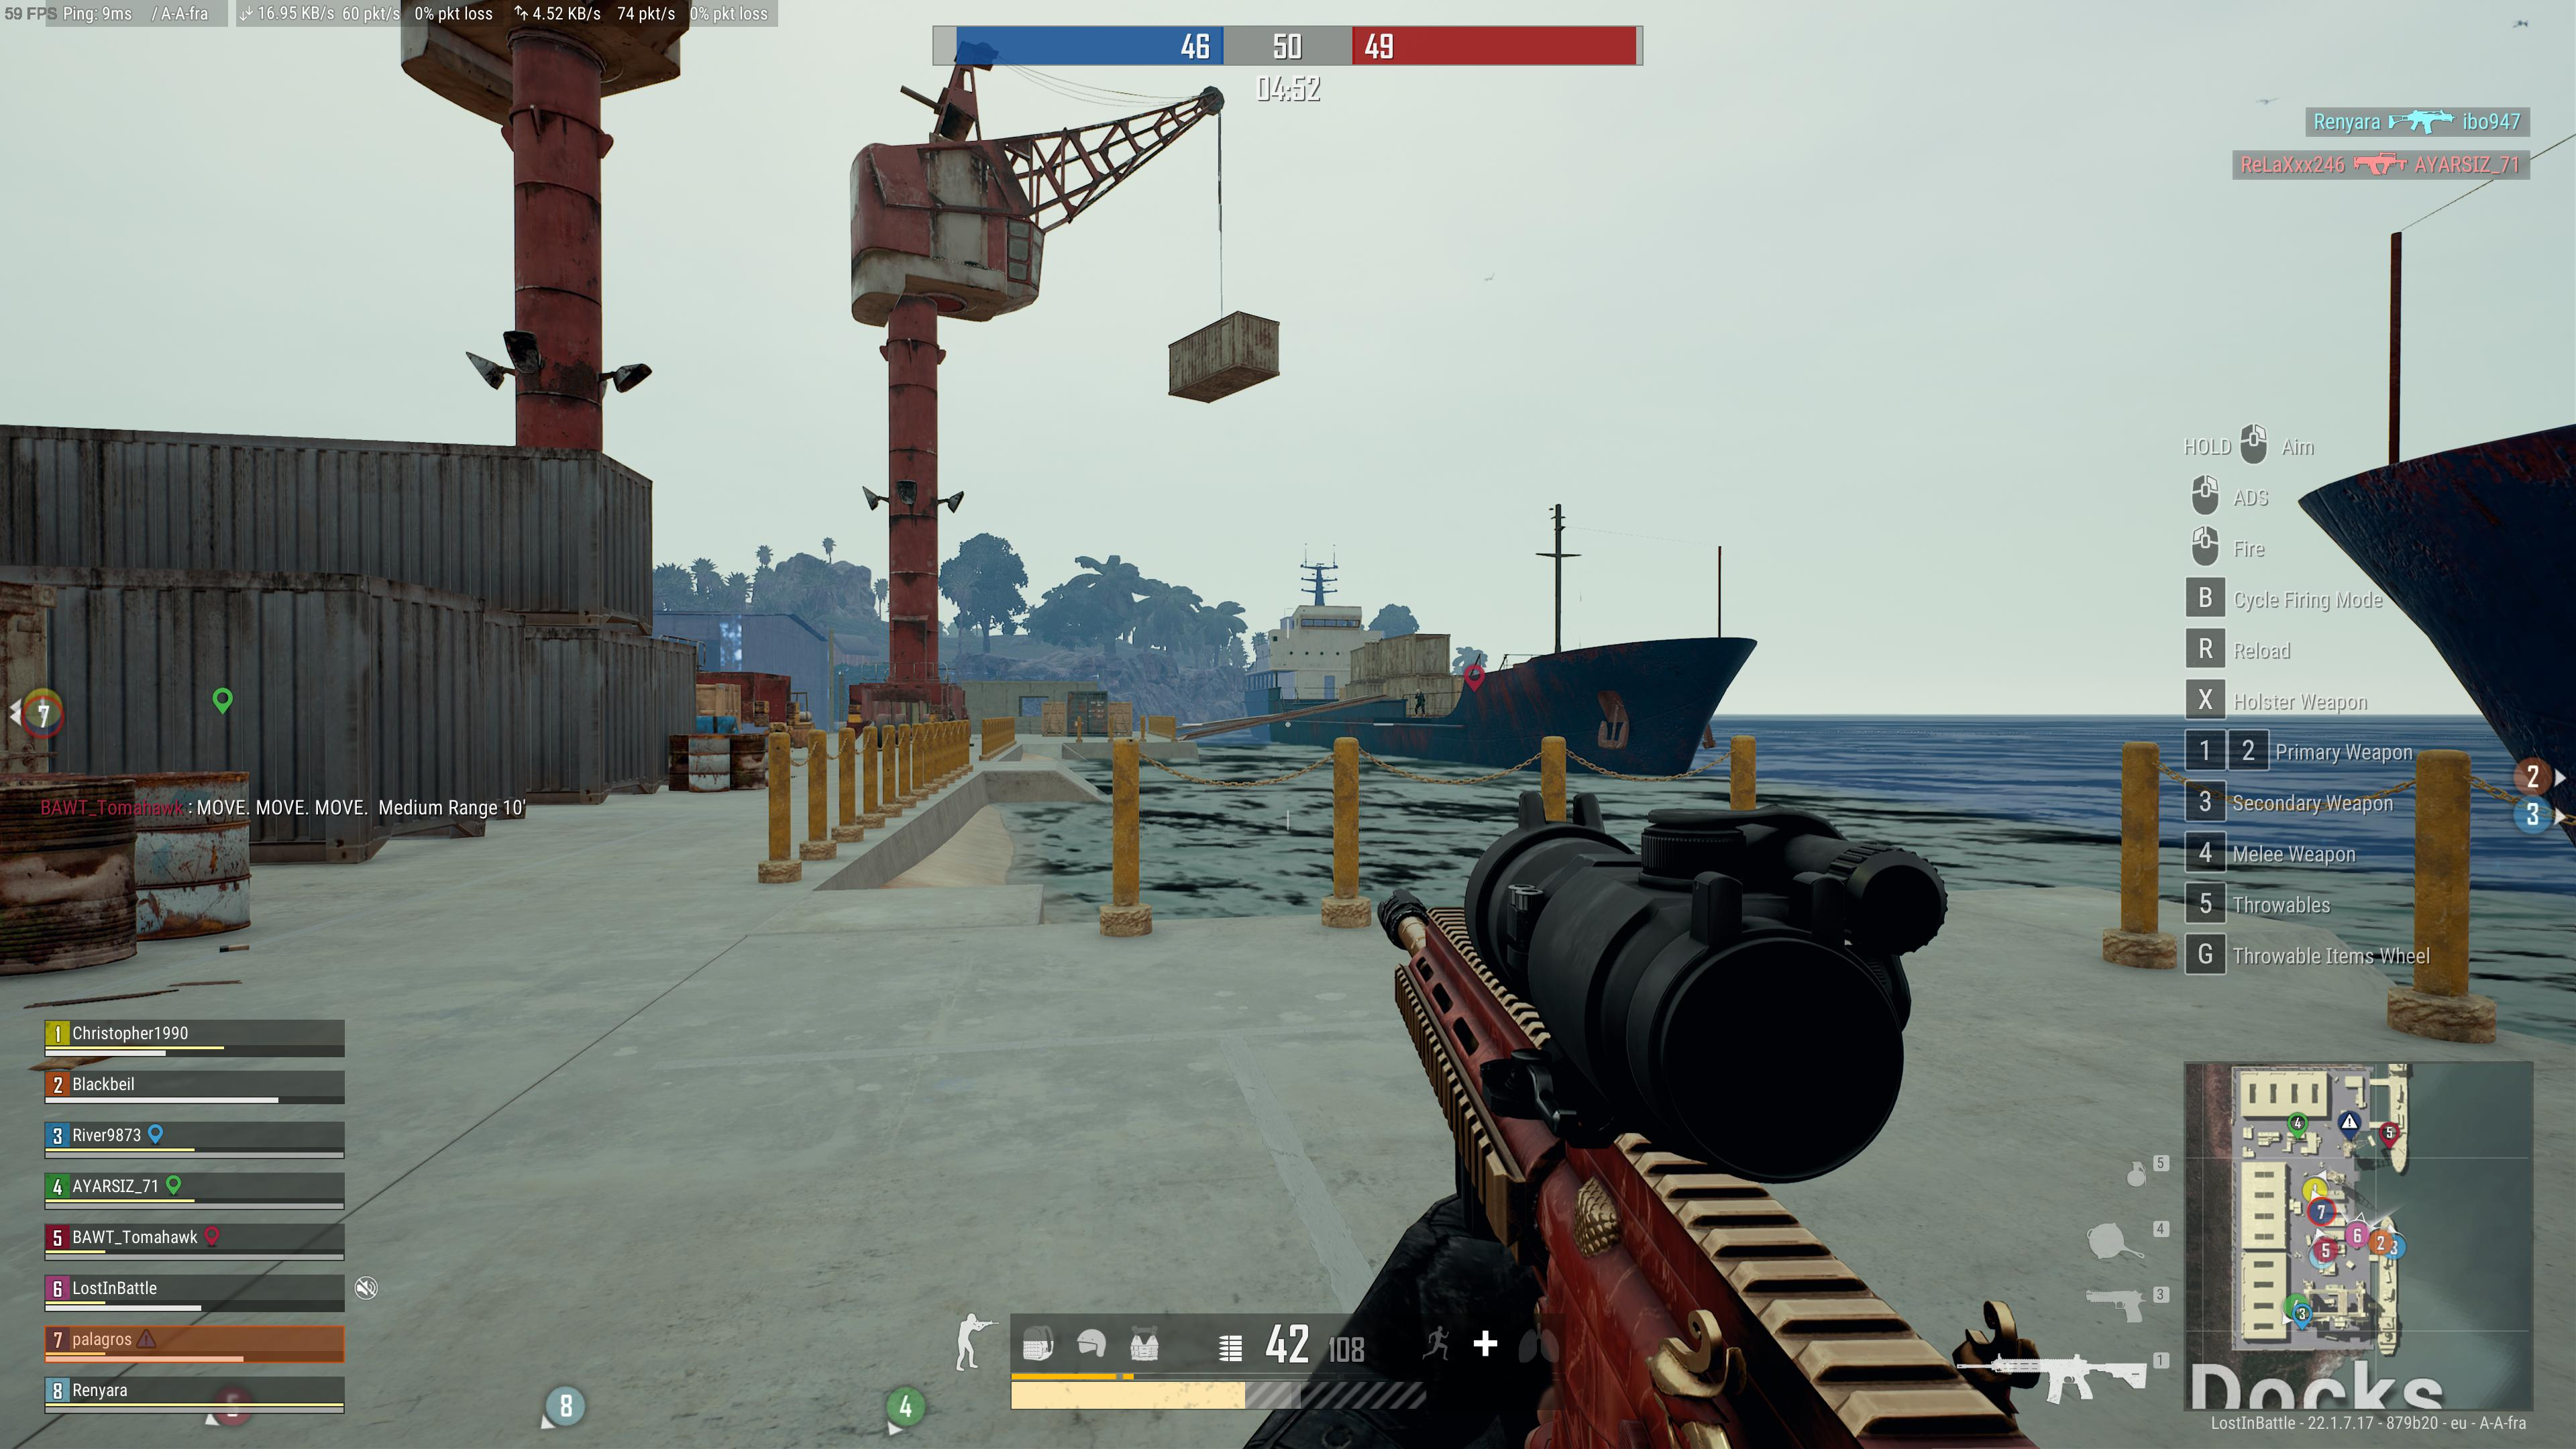enemy: (1414, 688, 1424, 717)
enemy_head: (1415, 688, 1421, 694)
